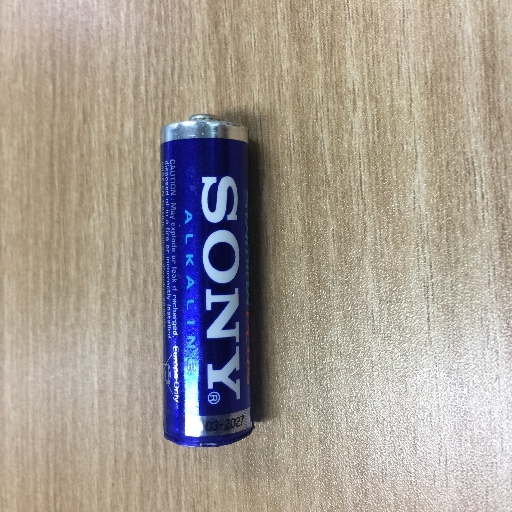Battery_0: (156, 103, 272, 455)
